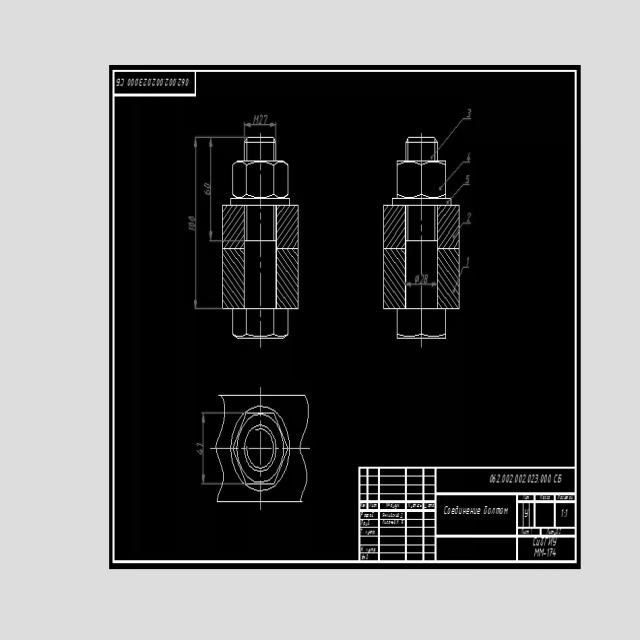marking_line: (193, 138, 198, 308), (209, 138, 217, 240), (246, 122, 276, 127)
numeric: (186, 216, 194, 233), (203, 181, 210, 198), (259, 114, 268, 124)
